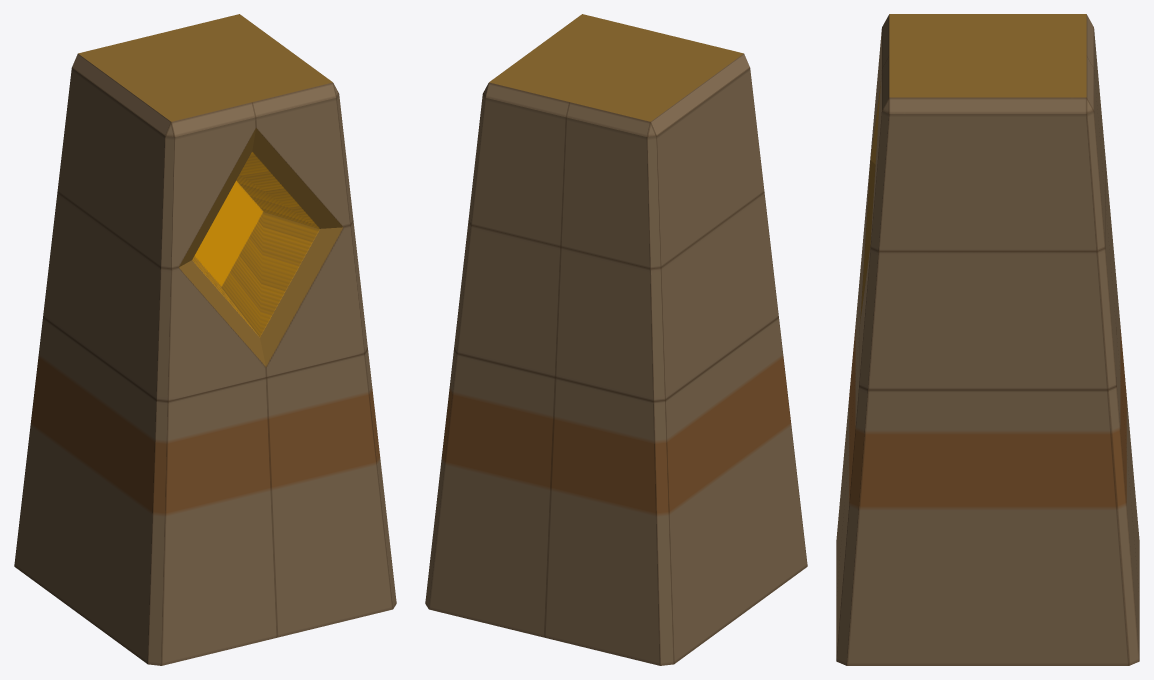
File: light.fbx
The picture shows the model from 3 angles, left to right: view 1: azimuth 30°, elevation 25°; view 2: azimuth 150°, elevation 25°; view 3: azimuth 270°, elevation 25°; orthographic projection. The views are drawn at different scales.
Parts seen in each view (by area): view 1: Cube.097; view 2: Cube.097; view 3: Cube.097.
Part boxes in pixels (left/top/right/bottom): Cube.097: left=14, top=14, right=396, bottom=665; Cube.097: left=425, top=14, right=807, bottom=665; Cube.097: left=836, top=14, right=1139, bottom=665.
Size of the model in its own units: 70.72 by 70.72 by 140.
